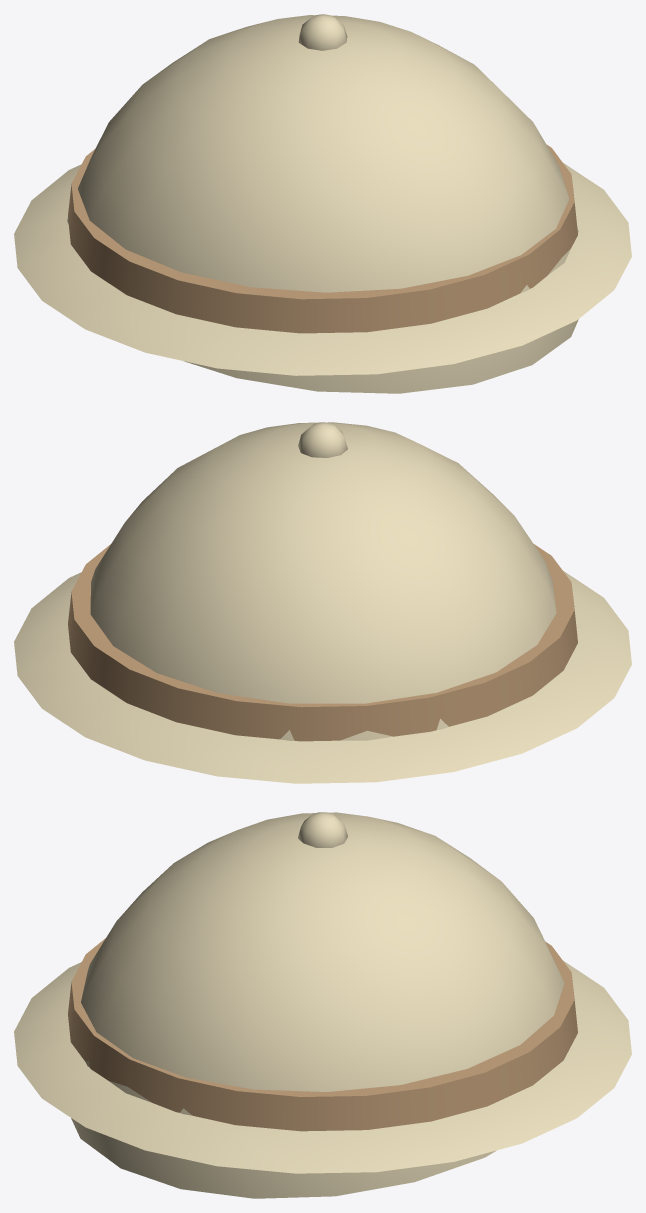
File: desert_head.fbx
3 views of the same model, one above another, from view 1: azimuth 30°, elevation 25°; view 2: azimuth 150°, elevation 25°; view 3: azimuth 270°, elevation 25° (orthographic).
Visible parts, largest first — view 1: desert_head; view 2: desert_head; view 3: desert_head.
Part boxes in pixels (left/top/right/bottom): desert_head: left=14, top=14, right=631, bottom=393; desert_head: left=14, top=422, right=631, bottom=783; desert_head: left=14, top=812, right=631, bottom=1198.
Bounding box in the file's own units: 1.71 × 0.8641 × 1.71.
